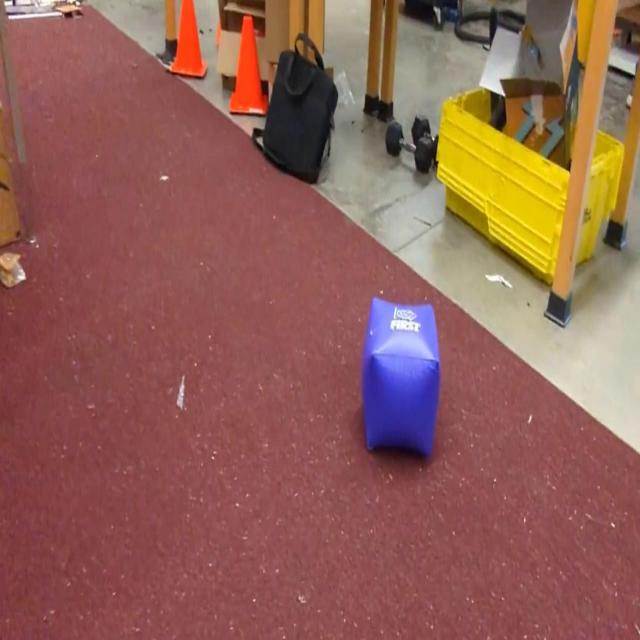frc_cube: (362, 295, 442, 460)
